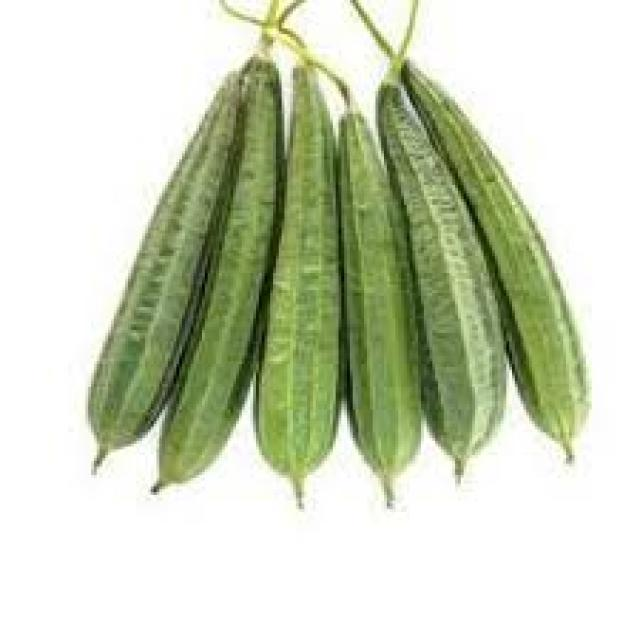organic waste: (350, 0, 586, 461), (86, 54, 250, 469), (148, 0, 282, 492), (372, 0, 503, 484), (307, 57, 418, 503), (250, 23, 342, 506)
